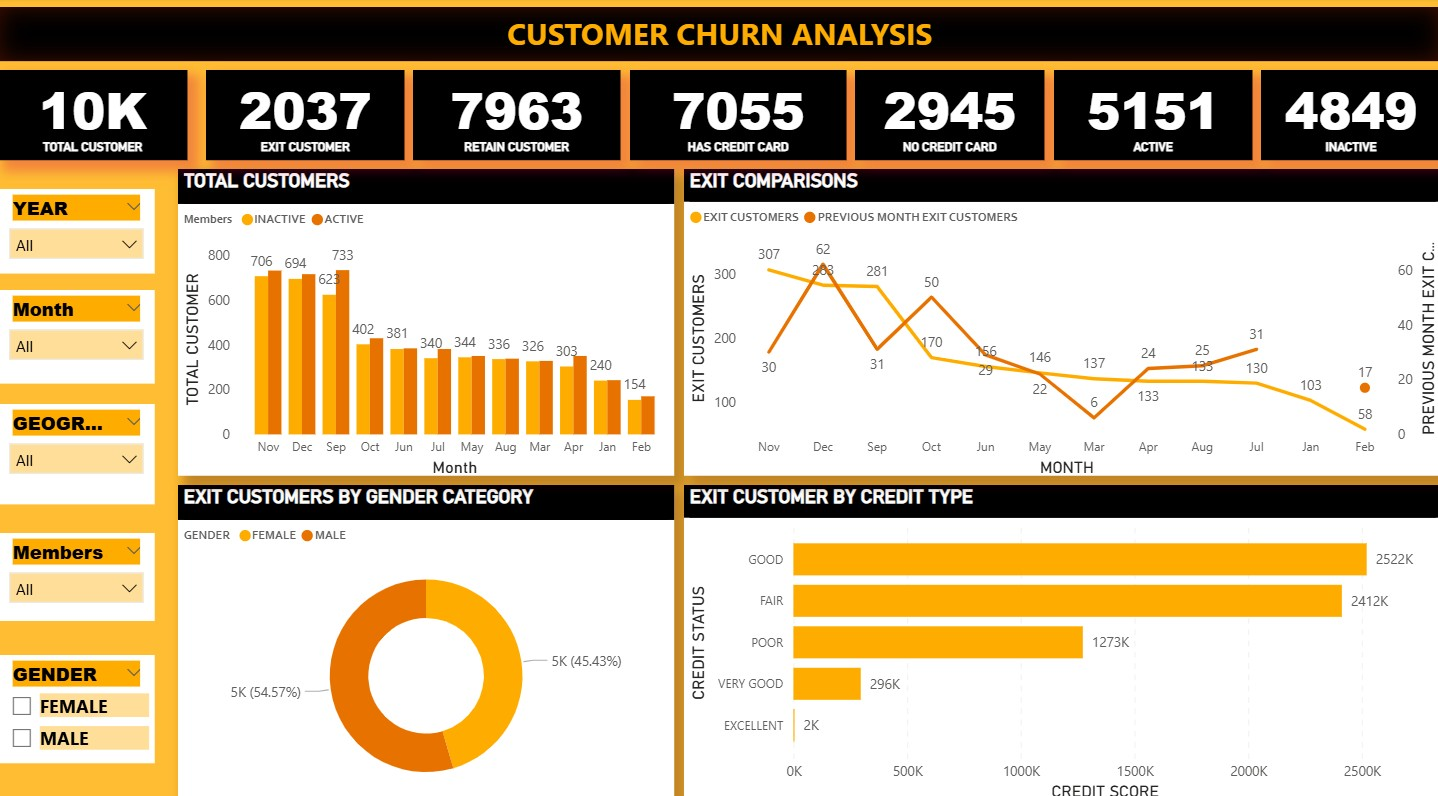

Layout of this report page (visuals, bound fields, positions):
{"tool":"powerbi","page":{"name":"CHURN ANALYSIS","canvas":[1280,720],"ordinal":0},"visuals":[{"type":"donutChart","title":"EXIT CUSTOMERS BY GENDER CATEGORY","fields":{"Category":["Bank_Churn.GENDER"],"Y":["Bank_Churn.TOTAL CUSTOMERS","Bank_Churn.PREVIOUS MONTH EXIT CUSTOMERS"]},"box":[160,432,440,280],"z":0},{"type":"clusteredColumnChart","title":"TOTAL CUSTOMERS","fields":{"Category":["DIMDATE.MONTHNAME"],"Y":["Bank_Churn.TOTAL CUSTOMERS"],"Series":["Bank_Churn.MEMBERS STATUS"]},"box":[160,152,440,272],"z":1000},{"type":"clusteredBarChart","title":"EXIT CUSTOMER BY CREDIT TYPE","fields":{"Y":["Sum(Bank_Churn.CREDIT SCORE)"],"Category":["Bank_Churn.CREDIT STATUS"]},"box":[608,432,672,280],"z":2000},{"type":"lineChart","title":"EXIT COMPARISONS","fields":{"Category":["DIMDATE.MONTHNAME"],"Y":["CountNonNull(Bank_Churn.Exited CUST)"],"Y2":["Bank_Churn.TOTAL EXIT CUSTOMERS"]},"box":[608,152,672,272],"z":3000},{"type":"card","fields":{"Values":["Bank_Churn.TOTAL CUSTOMERS"]},"box":[0,64,168,80],"z":4000},{"type":"slicer","fields":{"Values":["DIMDATE.YEAR"]},"box":[0,169.3,139.4,75.1],"z":5000},{"type":"slicer","fields":{"Values":["DIMDATE.MONTHNAME"]},"box":[0,258.9,139.4,83.3],"z":6000},{"type":"slicer","fields":{"Values":["Bank_Churn.GEOGRAPHY LOCATION"]},"box":[0,360.3,139.4,88.7],"z":7000},{"type":"slicer","fields":{"Values":["Bank_Churn.MEMBERS STATUS"]},"box":[0,474.3,139.4,77.9],"z":8000},{"type":"slicer","fields":{"Values":["Bank_Churn.GENDER"]},"box":[0,583,139.4,96],"z":9000},{"type":"card","fields":{"Values":["Bank_Churn.EXIT CUST"]},"box":[184,64,176,80],"z":10000},{"type":"card","fields":{"Values":["Bank_Churn.RETAIN CUST"]},"box":[368,64,184,80],"z":11000},{"type":"card","fields":{"Values":["Bank_Churn.HAS CREDIT CARD"]},"box":[560,64,192,80],"z":12000},{"type":"card","fields":{"Values":["Bank_Churn.NO CREDIT CARD"]},"box":[760,64,168,80],"z":13000},{"type":"card","fields":{"Values":["Bank_Churn.ACTIVE"]},"box":[936,64,176,80],"z":14000},{"type":"card","fields":{"Values":["Bank_Churn.INACTIVE"]},"box":[1120,64,160,80],"z":15000},{"type":"textbox","box":[0,8,1280,48],"z":16000}]}

Visuals, with their boxes in screenshot pixels (x1, y1, x2, y2), scaled from the page's 1280x720 canvas onto the 1438x796 screenshot:
"EXIT CUSTOMERS BY GENDER CATEGORY" donutChart: region(180, 478, 674, 787)
"TOTAL CUSTOMERS" clusteredColumnChart: region(180, 168, 674, 469)
"EXIT CUSTOMER BY CREDIT TYPE" clusteredBarChart: region(683, 478, 1437, 787)
"EXIT COMPARISONS" lineChart: region(683, 168, 1437, 469)
card - Bank_Churn.TOTAL CUSTOMERS: region(0, 71, 189, 159)
slicer - DIMDATE.YEAR: region(0, 187, 157, 270)
slicer - DIMDATE.MONTHNAME: region(0, 286, 157, 378)
slicer - Bank_Churn.GEOGRAPHY LOCATION: region(0, 398, 157, 496)
slicer - Bank_Churn.MEMBERS STATUS: region(0, 524, 157, 610)
slicer - Bank_Churn.GENDER: region(0, 645, 157, 751)
card - Bank_Churn.EXIT CUST: region(207, 71, 404, 159)
card - Bank_Churn.RETAIN CUST: region(413, 71, 620, 159)
card - Bank_Churn.HAS CREDIT CARD: region(629, 71, 845, 159)
card - Bank_Churn.NO CREDIT CARD: region(854, 71, 1043, 159)
card - Bank_Churn.ACTIVE: region(1052, 71, 1249, 159)
card - Bank_Churn.INACTIVE: region(1258, 71, 1437, 159)
textbox: region(0, 9, 1437, 62)
